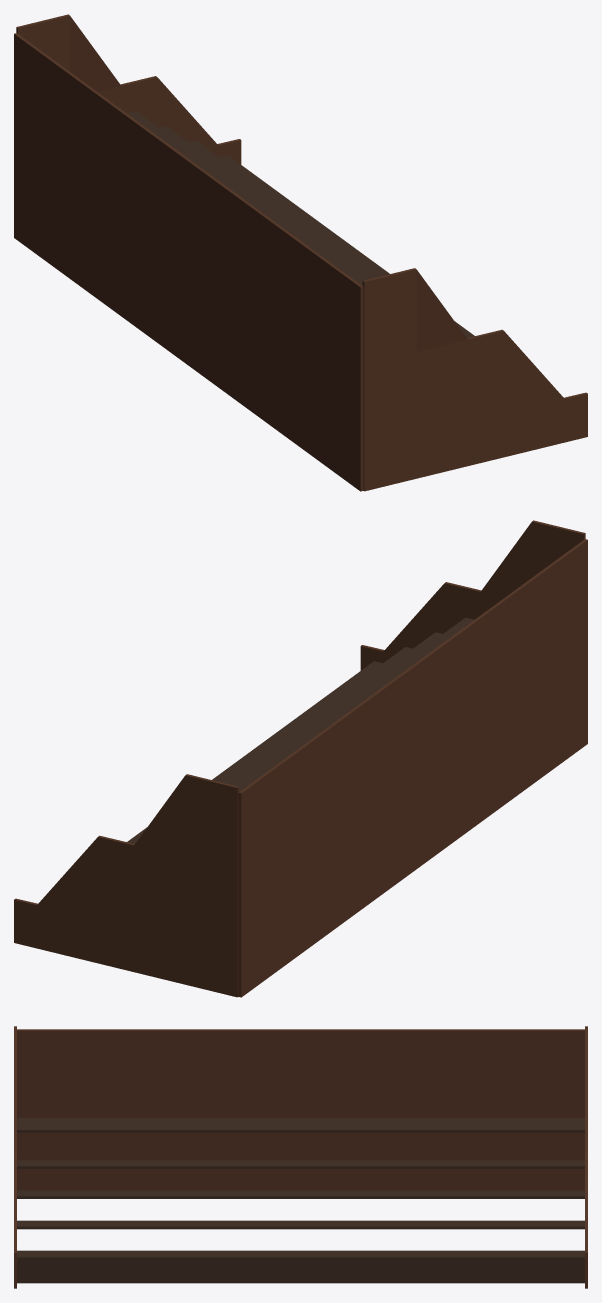
Rendered from 射的台_long.fbx.
The picture shows the model from 3 angles, top to bottom: view 1: azimuth 30°, elevation 25°; view 2: azimuth 150°, elevation 25°; view 3: azimuth 270°, elevation 25°; orthographic projection. The views are drawn at different scales.
Parts seen in each view (by area): view 1: Cube.005, 立方体.001, 立方体, Cube.004, Cube.003, Cube.002, Cube.001; view 2: Cube.005, 立方体, 立方体.001, Cube.004, Cube.003, Cube.002, Cube.001, Cube; view 3: Cube.005, Cube, Cube.006, Cube.002, Cube.003, Cube.004, Cube.001, 立方体, 立方体.001.
Part boxes in pixels (x1,y1,x2,y2): Cube.005: (14, 33, 363, 491); 立方体.001: (362, 268, 587, 491); 立方体: (16, 14, 241, 164); Cube.004: (127, 111, 365, 285); Cube.003: (159, 126, 373, 279); Cube.002: (189, 141, 380, 277); Cube.001: (219, 156, 473, 337); Cube.005: (238, 539, 587, 997); 立方体: (14, 774, 239, 997); 立方体.001: (360, 520, 585, 670); Cube.004: (236, 617, 474, 791); Cube.003: (228, 632, 442, 785); Cube.002: (221, 647, 412, 783); Cube.001: (130, 662, 382, 843); Cube: (127, 661, 376, 842); Cube.005: (17, 1029, 584, 1190); Cube: (17, 1256, 584, 1283); Cube.006: (17, 1118, 584, 1132); Cube.002: (17, 1220, 584, 1229); Cube.003: (17, 1190, 584, 1198); Cube.004: (17, 1160, 584, 1168); Cube.001: (17, 1250, 584, 1256); 立方体: (585, 1026, 587, 1288); 立方体.001: (14, 1026, 16, 1288).
Size of the model in its own units: 1510 by 1333 by 4020.
